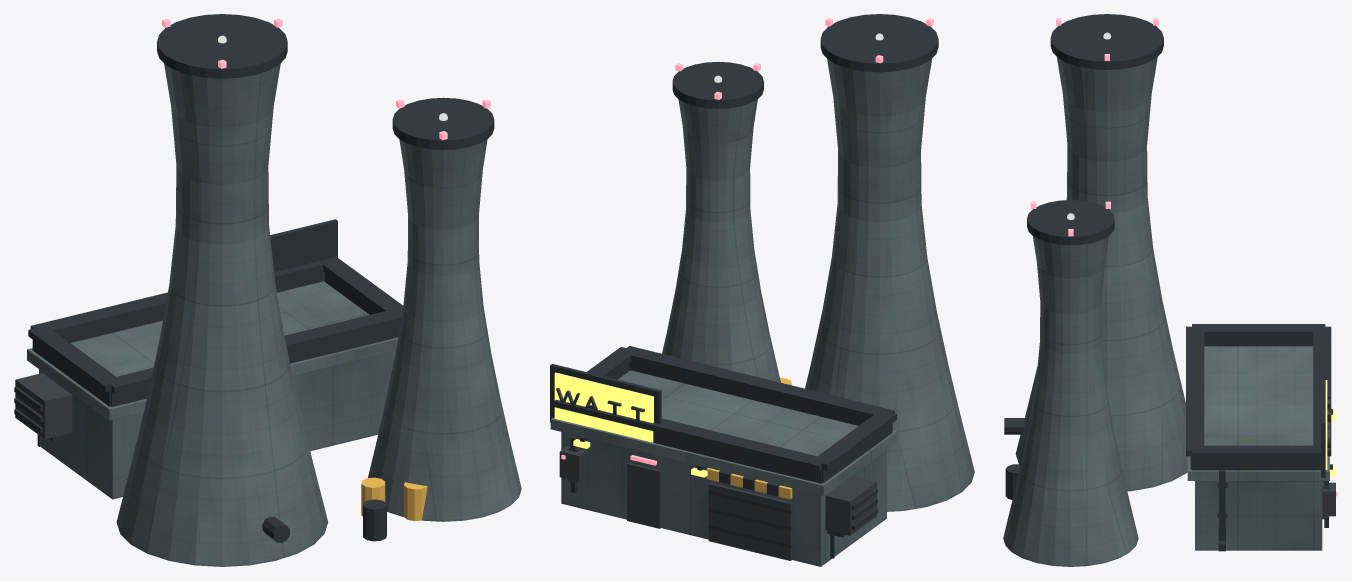
The model's file is synthwave-cooling.glb.
The picture shows the model from 3 angles, left to right: view 1: azimuth 30°, elevation 25°; view 2: azimuth 150°, elevation 25°; view 3: azimuth 270°, elevation 25°; orthographic projection. The views are drawn at different scales.
Parts seen in each view (by area): view 1: Cooling_Body2, Cooling_Frame, Hall, Cooling_Door, Cooling_Hazard; view 2: Cooling_Body2, Cooling_Frame, Hall, Cooling_Door, AdPanel, Cooling_Hazard; view 3: Cooling_Body2, Cooling_Frame, Hall, Cooling_Door.
Part boxes in pixels (x1=…): Cooling_Body2: x1=27, y1=63, x2=521, y2=566; Cooling_Frame: x1=14, y1=14, x2=494, y2=542; Hall: x1=39, y1=351, x2=395, y2=499; Cooling_Door: x1=15, y1=373, x2=72, y2=439; Cooling_Hazard: x1=361, y1=477, x2=427, y2=520; Cooling_Body2: x1=550, y1=59, x2=974, y2=511; Cooling_Frame: x1=550, y1=14, x2=938, y2=558; Hall: x1=561, y1=432, x2=886, y2=566; Cooling_Door: x1=556, y1=388, x2=876, y2=560; AdPanel: x1=554, y1=372, x2=653, y2=442; Cooling_Hazard: x1=706, y1=378, x2=792, y2=499; Cooling_Body2: x1=1003, y1=57, x2=1329, y2=566; Cooling_Frame: x1=1004, y1=14, x2=1332, y2=551; Hall: x1=1195, y1=481, x2=1322, y2=550; Cooling_Door: x1=1217, y1=397, x2=1335, y2=519.
Size of the model in its own units: 1.19 by 1.54 by 1.1.
11 materials, 2 textured.
